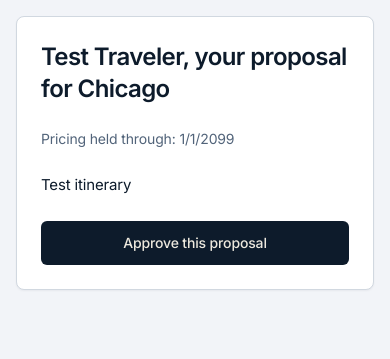
Test case: individual proposal approval › handles a returned network error without claiming approval
What coordinates should you click on to do the following:
click the button
I would click on:
 (195, 243)
Its box is [41,221,349,265].
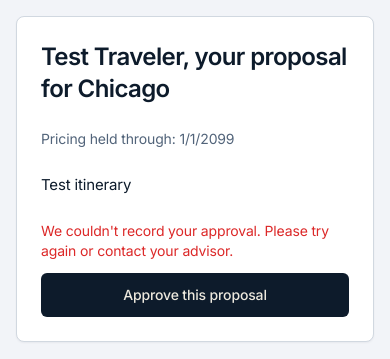
Check: the button is enabled, box [41,273,349,317]
Check: the message "We couldn't record your approval. Please try again or contact your advisor." is shown, box [41,221,349,261]
